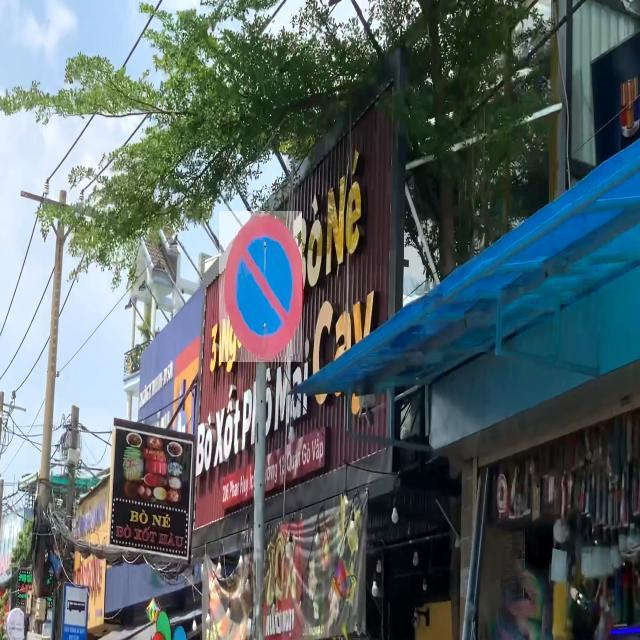P-131a: (219, 211, 302, 362)
